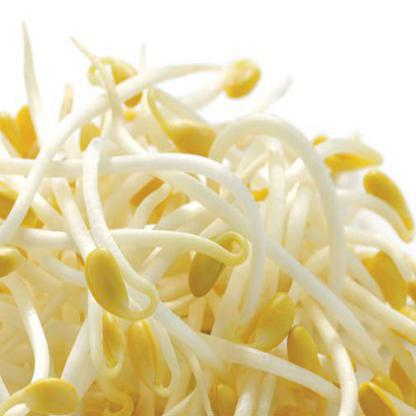bean sprouts: (2, 15, 416, 416)
